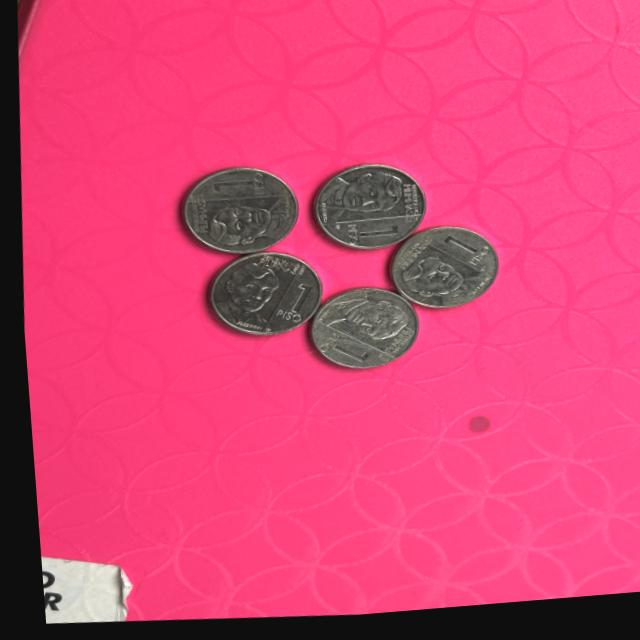1_New_Front: (312, 325, 372, 376), (435, 231, 490, 283), (203, 170, 272, 207), (337, 221, 398, 255), (274, 280, 310, 332)
